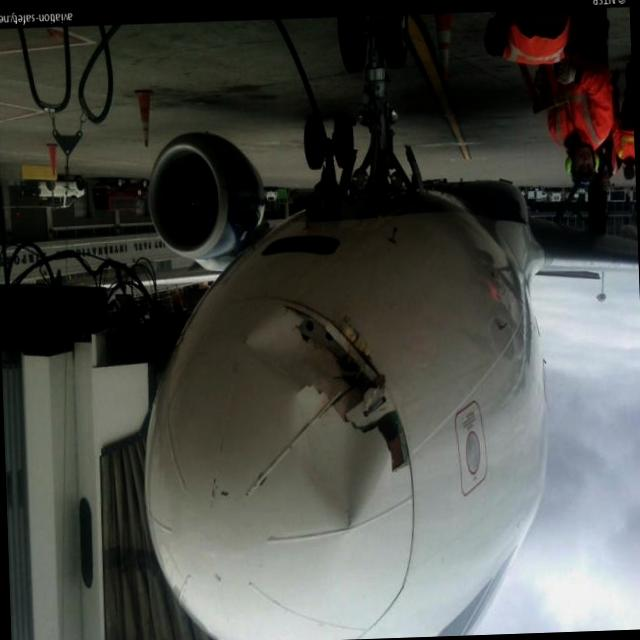dent: (296, 388, 386, 532), (245, 310, 329, 380)
